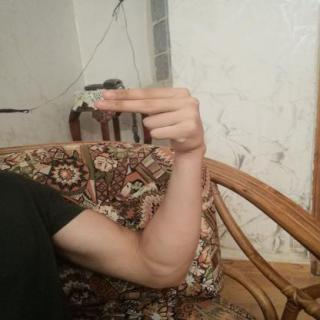AYN: (83, 76, 219, 159)
